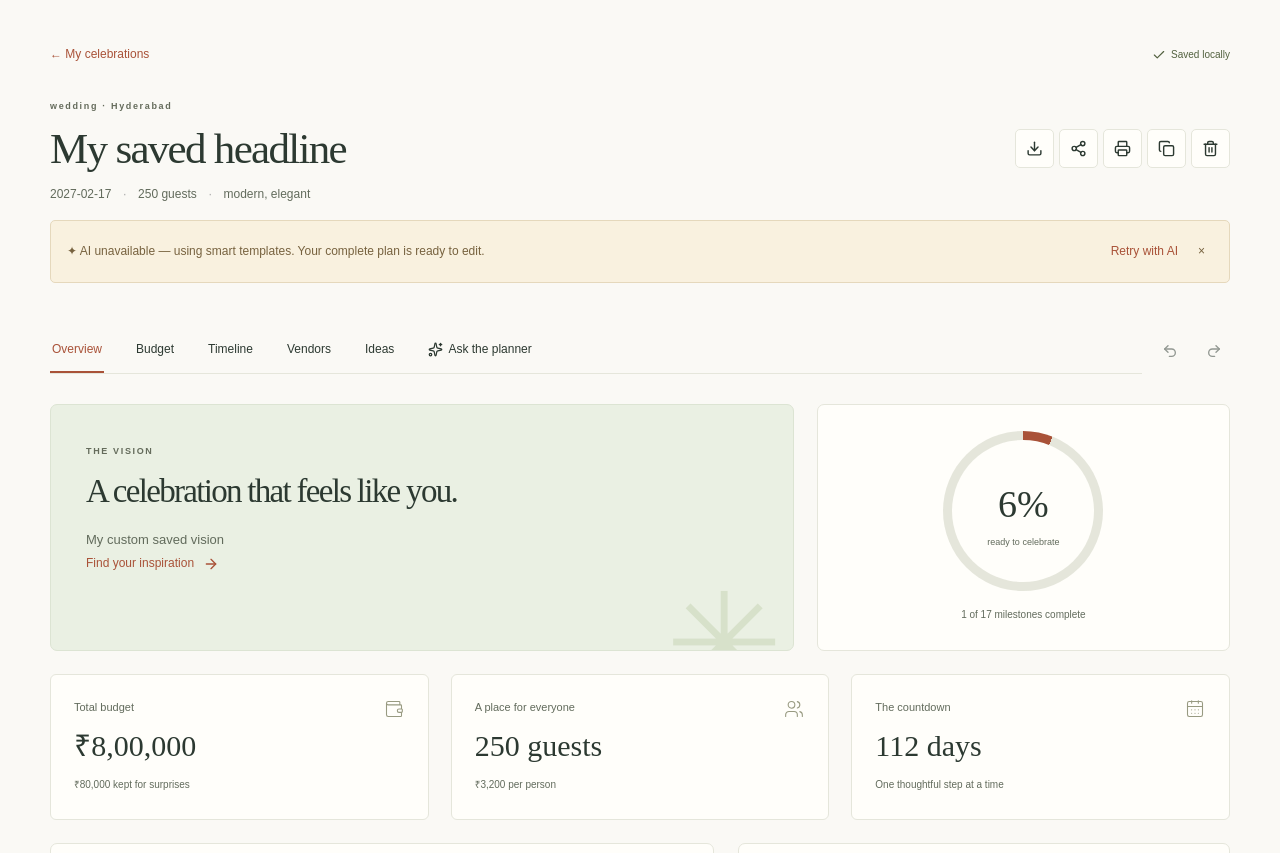
Test case: rejects a preview after a newer edit without partially applying any section
Click the button "Retry with AI". click: (1144, 251)
box: [1111, 241, 1178, 262]
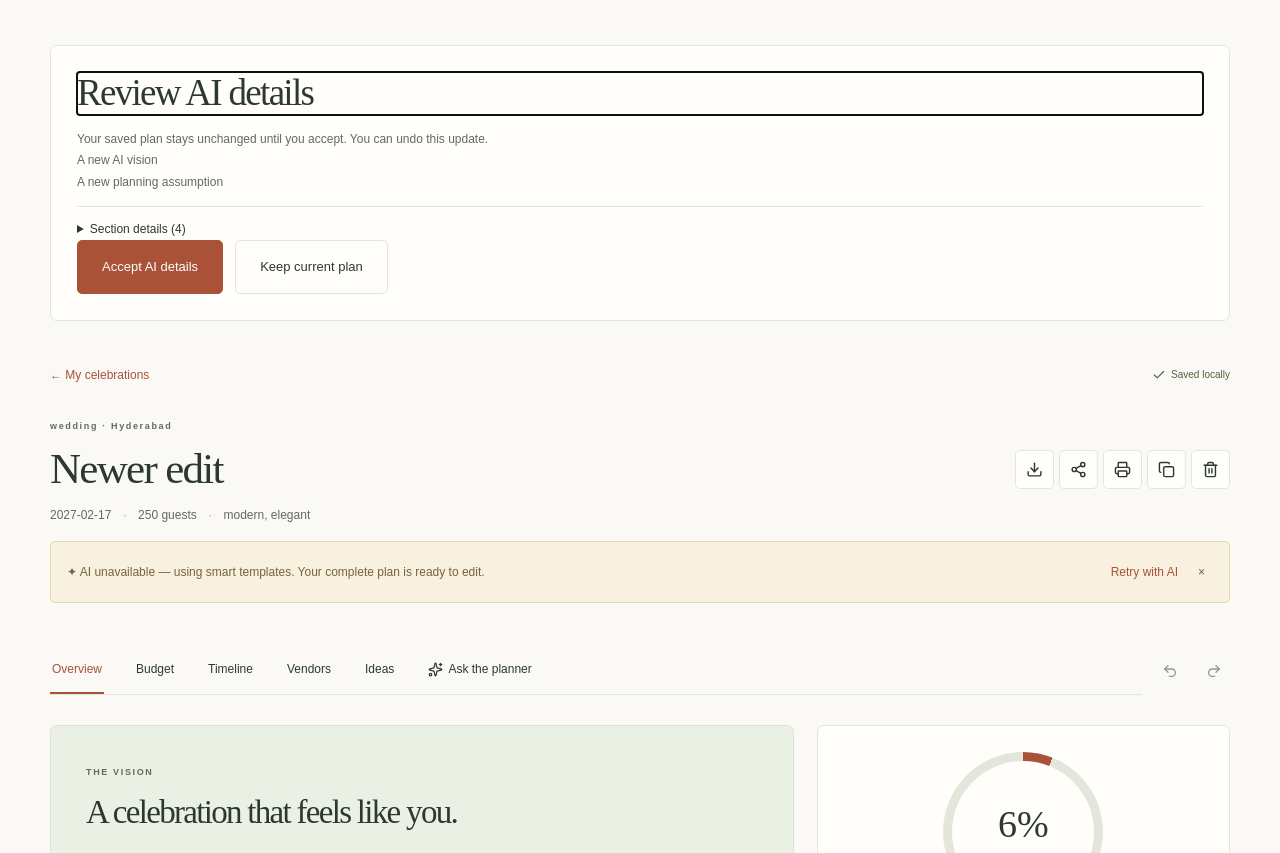
Click the button "Accept AI details". click: (150, 267)
box: [77, 240, 223, 294]
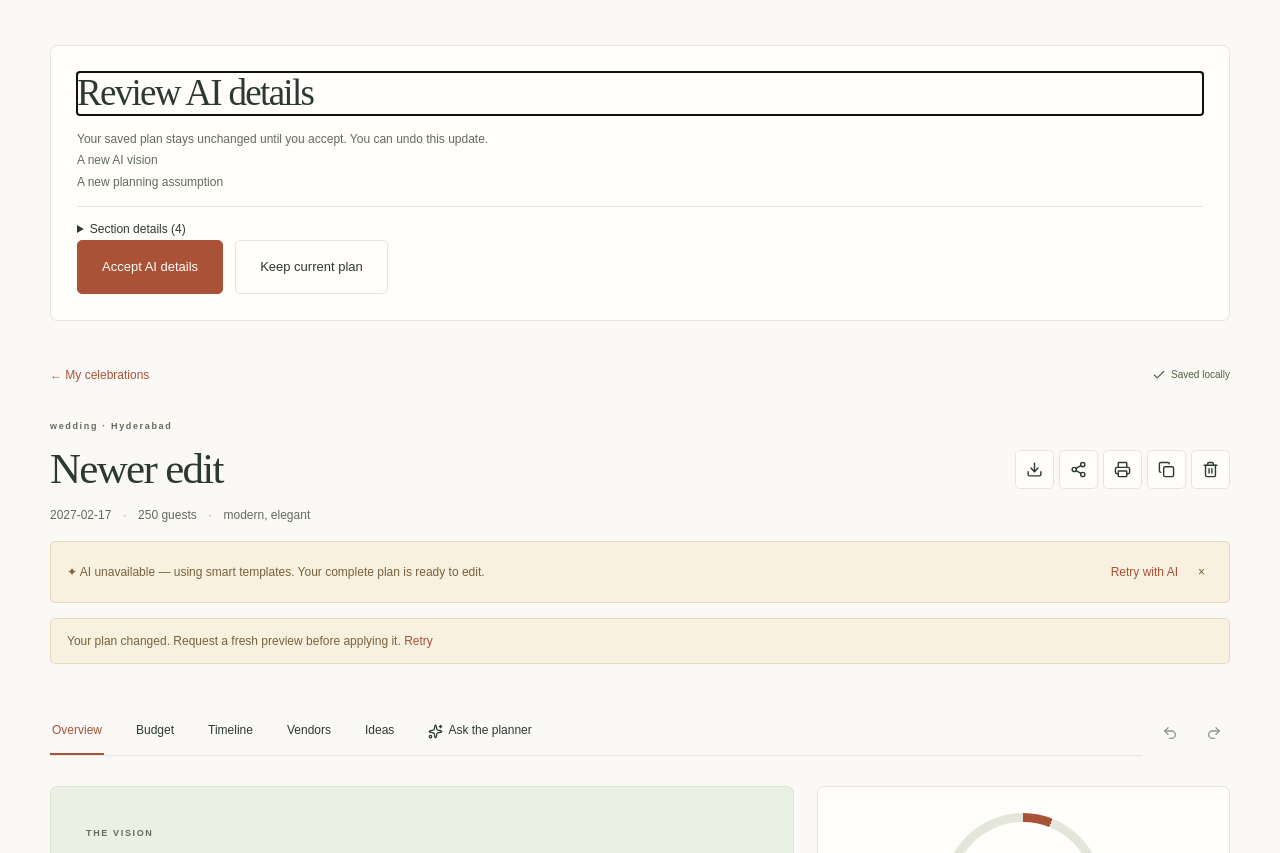
Expected: the message shows "changed", [67, 634, 401, 648]
